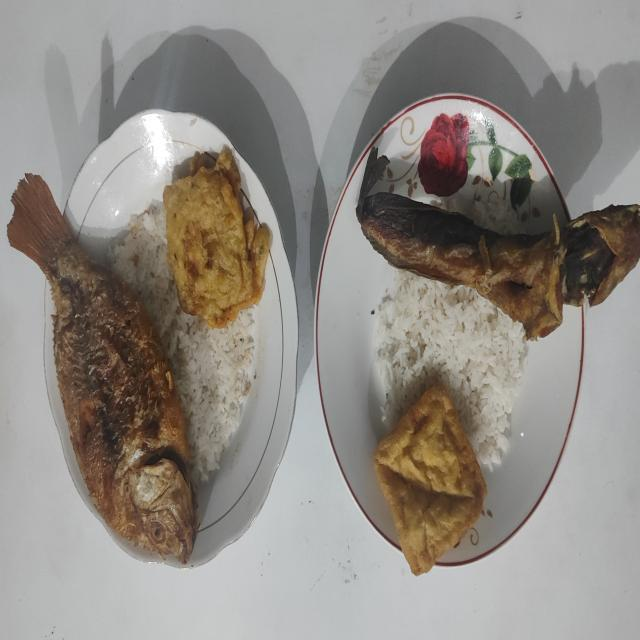ikan_mujair: (8, 173, 198, 562)
nasi_putih: (110, 203, 256, 481), (374, 270, 529, 470)
tahu_goreng: (374, 384, 486, 575)
